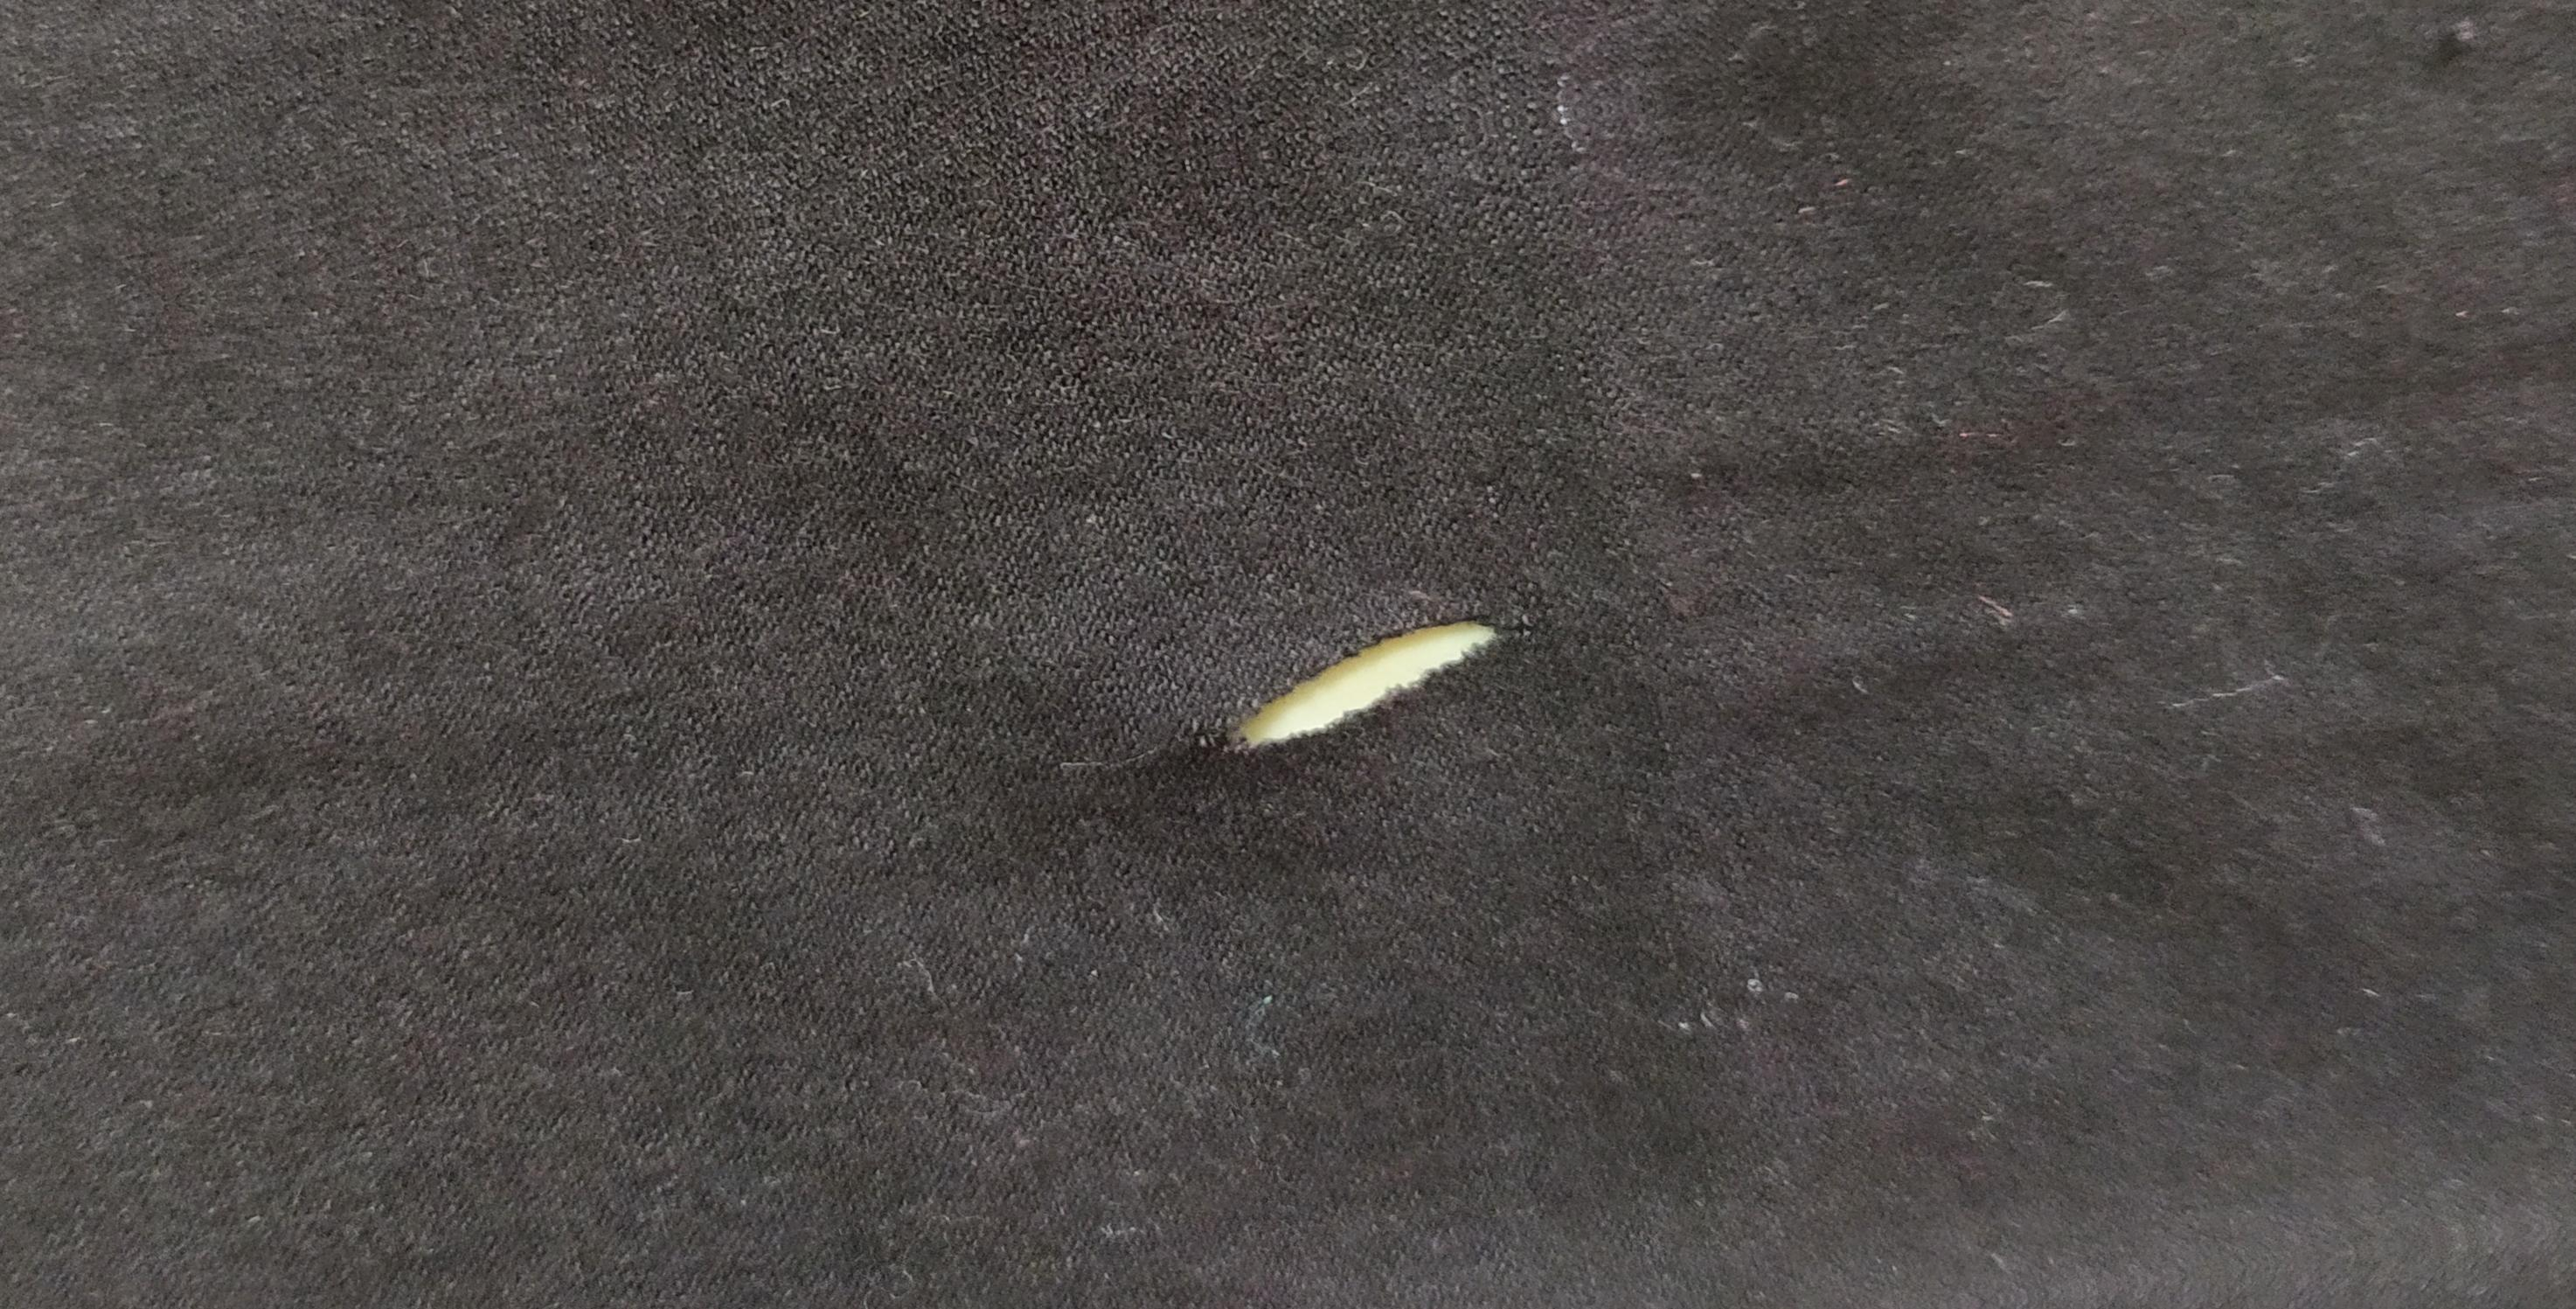hole: (1220, 606, 1525, 768)
